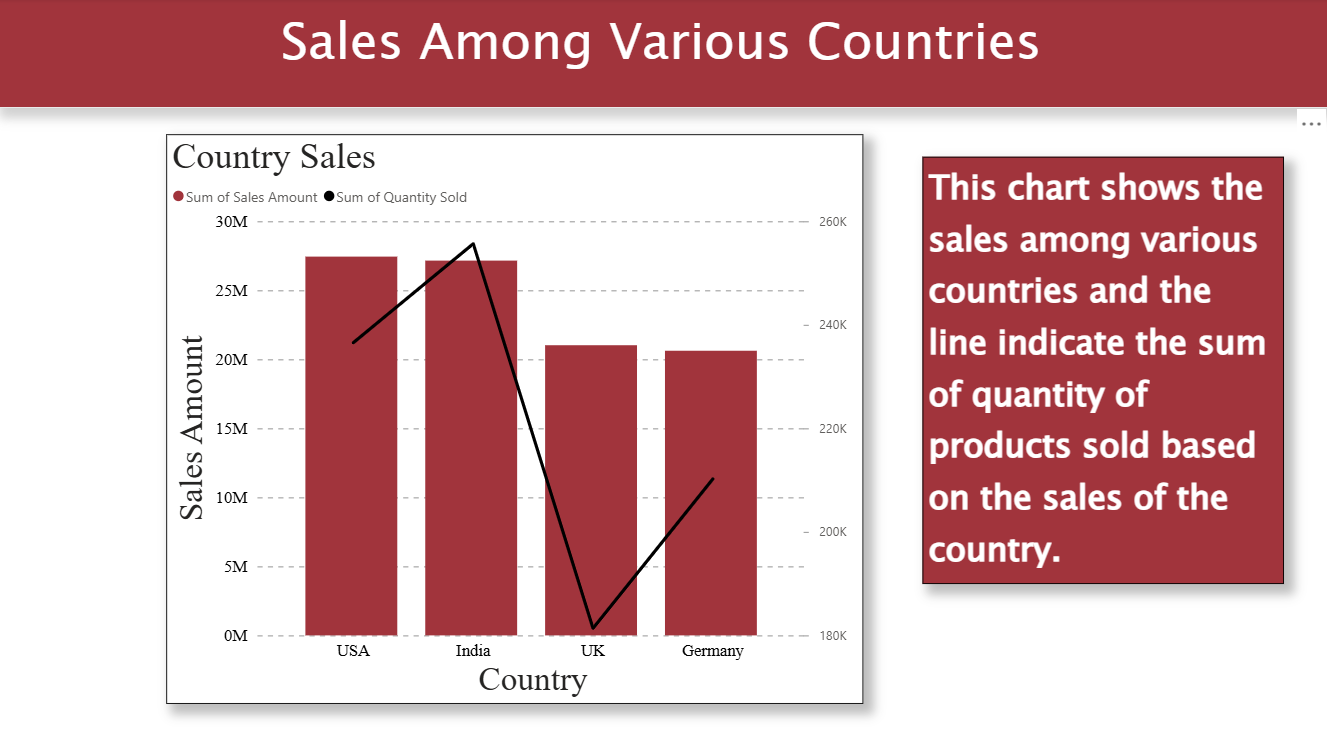

The dashboard page shown, as its layout file describes it:
{"tool":"powerbi","page":{"name":"Sales in coutries","canvas":[1280,720],"ordinal":1},"visuals":[{"type":"lineClusteredColumnComboChart","title":"Country Sales","fields":{"Category":["Product_Sales_Dataset.Country"],"Y":["Sum(Product_Sales_Dataset.Sales Amount)"],"Y2":["Sum(Product_Sales_Dataset.Quantity Sold)"]},"box":[164.7,130.4,669.6,547.5],"z":0},{"type":"textbox","box":[0,0,1280.3,105.7],"z":1000},{"type":"textbox","box":[890.6,152.3,347.2,410.3],"z":1001}]}

Visuals, with their boxes in screenshot pixels (x1, y1, x2, y2), scaled from the page's 1280x720 canvas onto the 1327x746 screenshot:
"Country Sales" lineClusteredColumnComboChart: box(171, 135, 865, 702)
textbox: box(0, 0, 1326, 110)
textbox: box(923, 158, 1283, 583)
